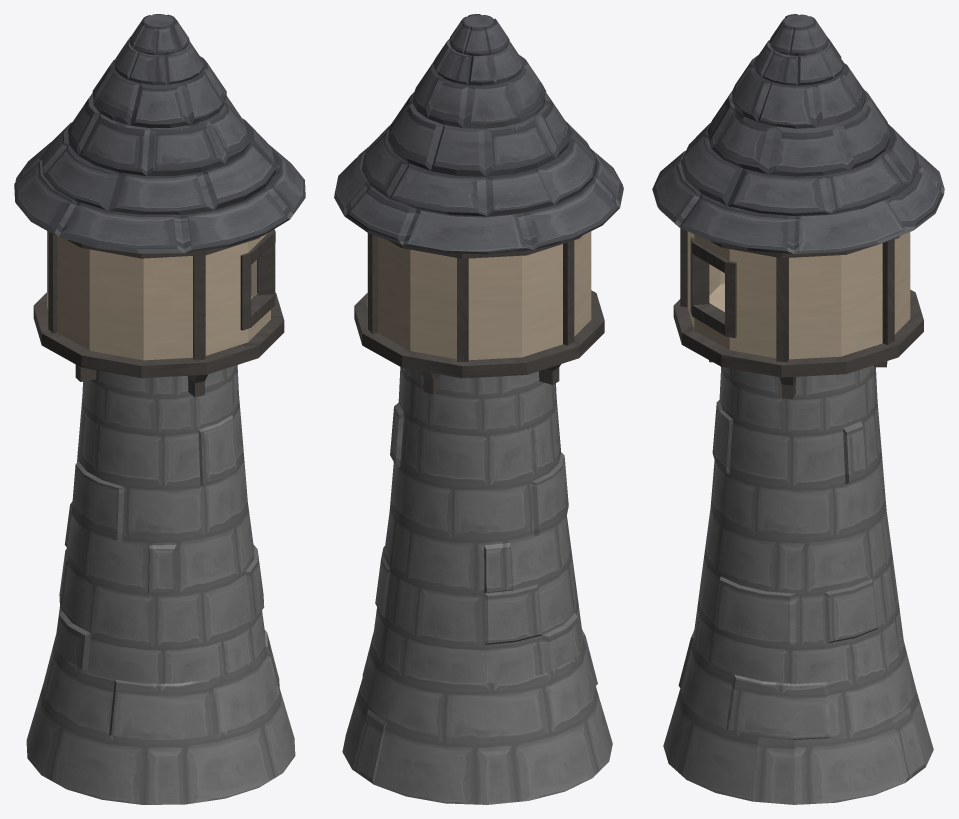
Rendered from att_tower2-2_uv.fbx.
3 renders of one model, left to right at view 1: azimuth 30°, elevation 25°; view 2: azimuth 150°, elevation 25°; view 3: azimuth 270°, elevation 25°, orthographic.
Parts seen in each view (by area): view 1: tower2_2_; view 2: tower2_2_; view 3: tower2_2_.
Boxes of the visible parts, <box> form: tower2_2_: <box>14,14,305,804</box>; tower2_2_: <box>334,14,623,804</box>; tower2_2_: <box>652,14,944,804</box>.
Bounding box in the file's own units: 215 × 591 × 216.
5 materials, 4 textured.
